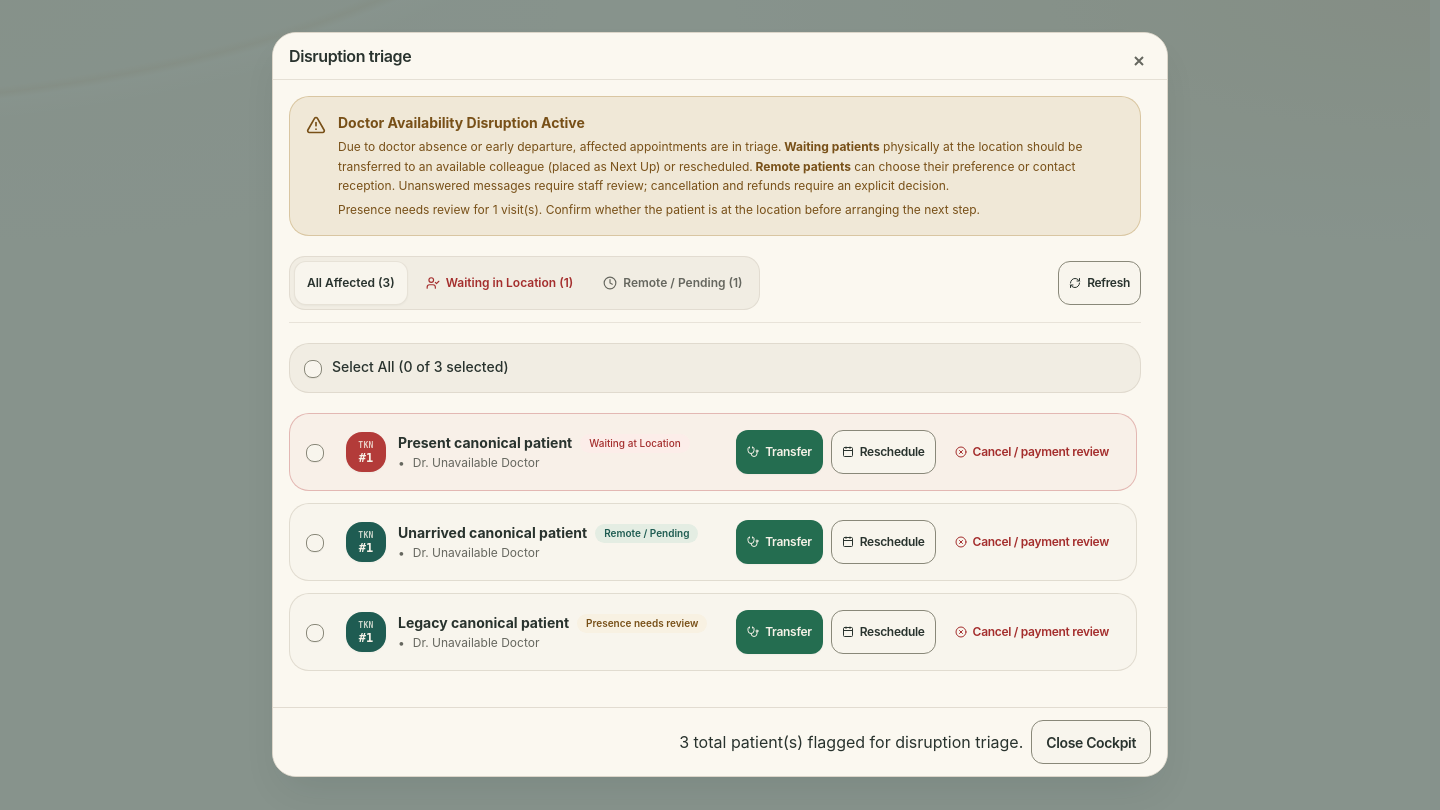
Test: Disruption attendance review › preserves recorded attendance and treats missing history as unknown rather than reading notes
The image size is (1440, 810).
Expected: the button "Remote / Pending (1)" is shown, [591,262,754,306]
Expected: the text "Presence needs review for 1 visit" is shown, [338,202,980,217]
Click the button "Waiting in Location (1)". click: click(499, 284)
box: [414,262,585,306]
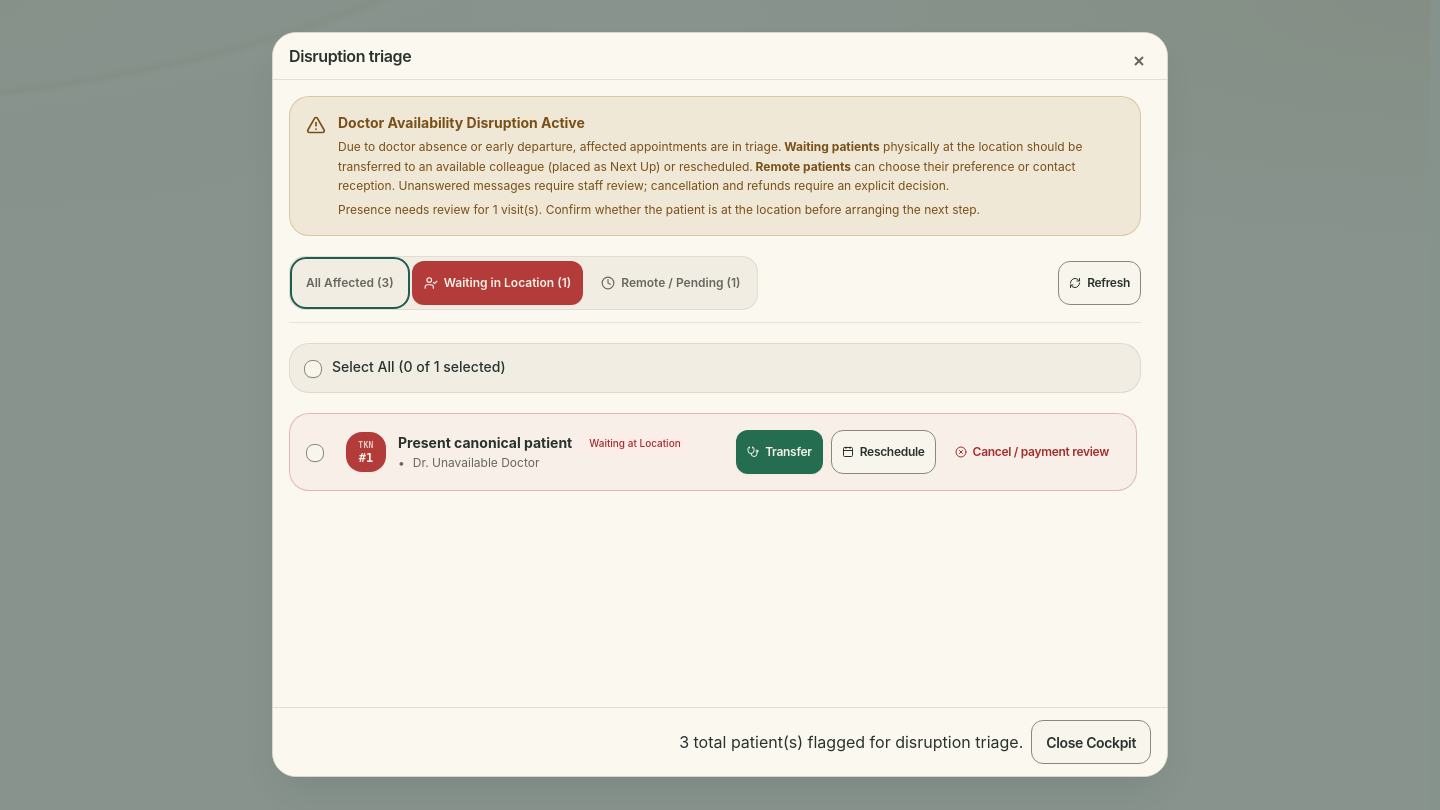
Expected: the text "Present canonical patient" is shown, [398,434,572,454]
Now the text "Unarrived canonical patient" is gone
Now the text "Legacy canonical patient" is gone
Click the button "Cancel / payment review". click: click(1032, 453)
box: [944,431,1120,475]
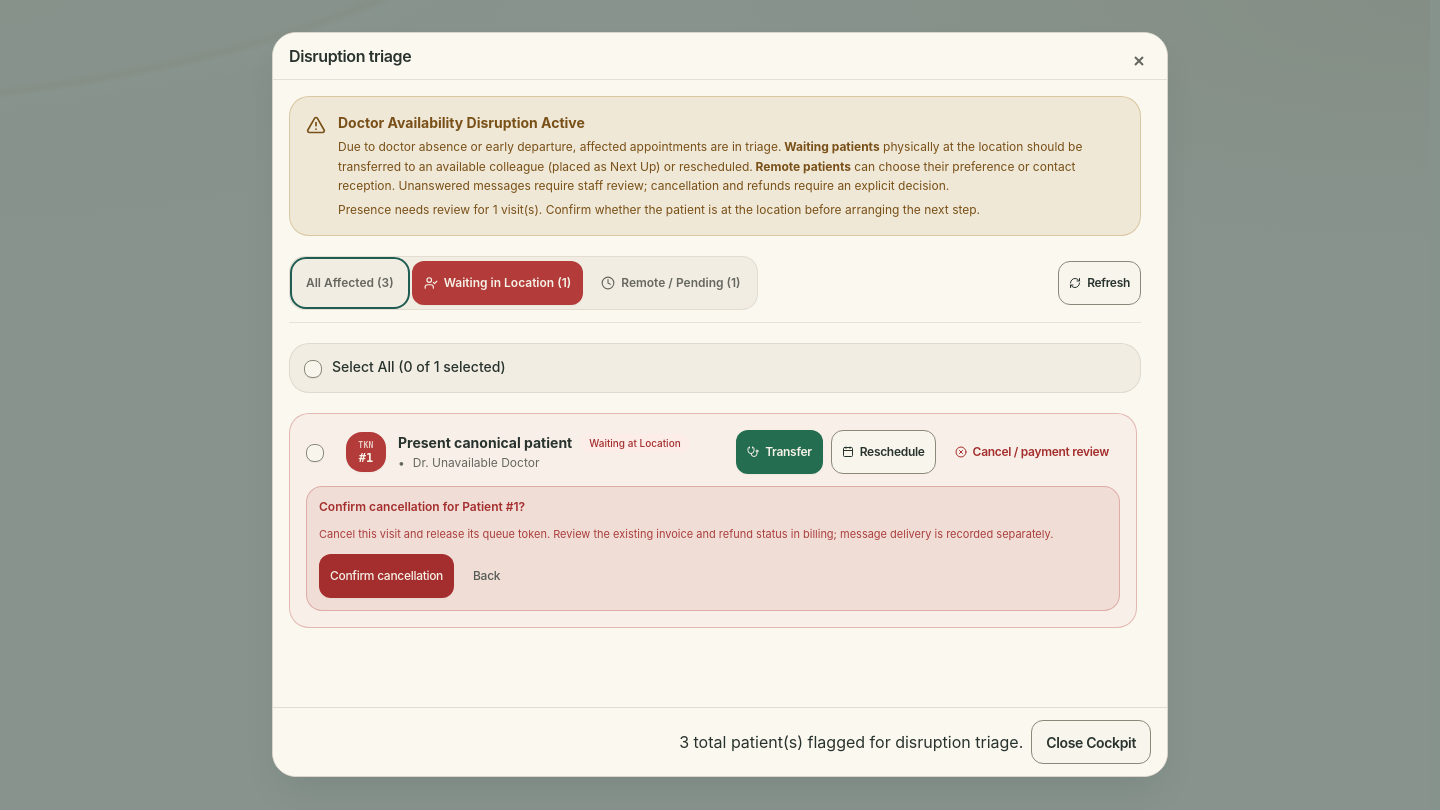
Now the text "Review the existing invoice and refund status" is shown, box [319,528,1053,542]
Click the button "Confirm cancellation". click: click(386, 576)
box: [319,554,454,598]
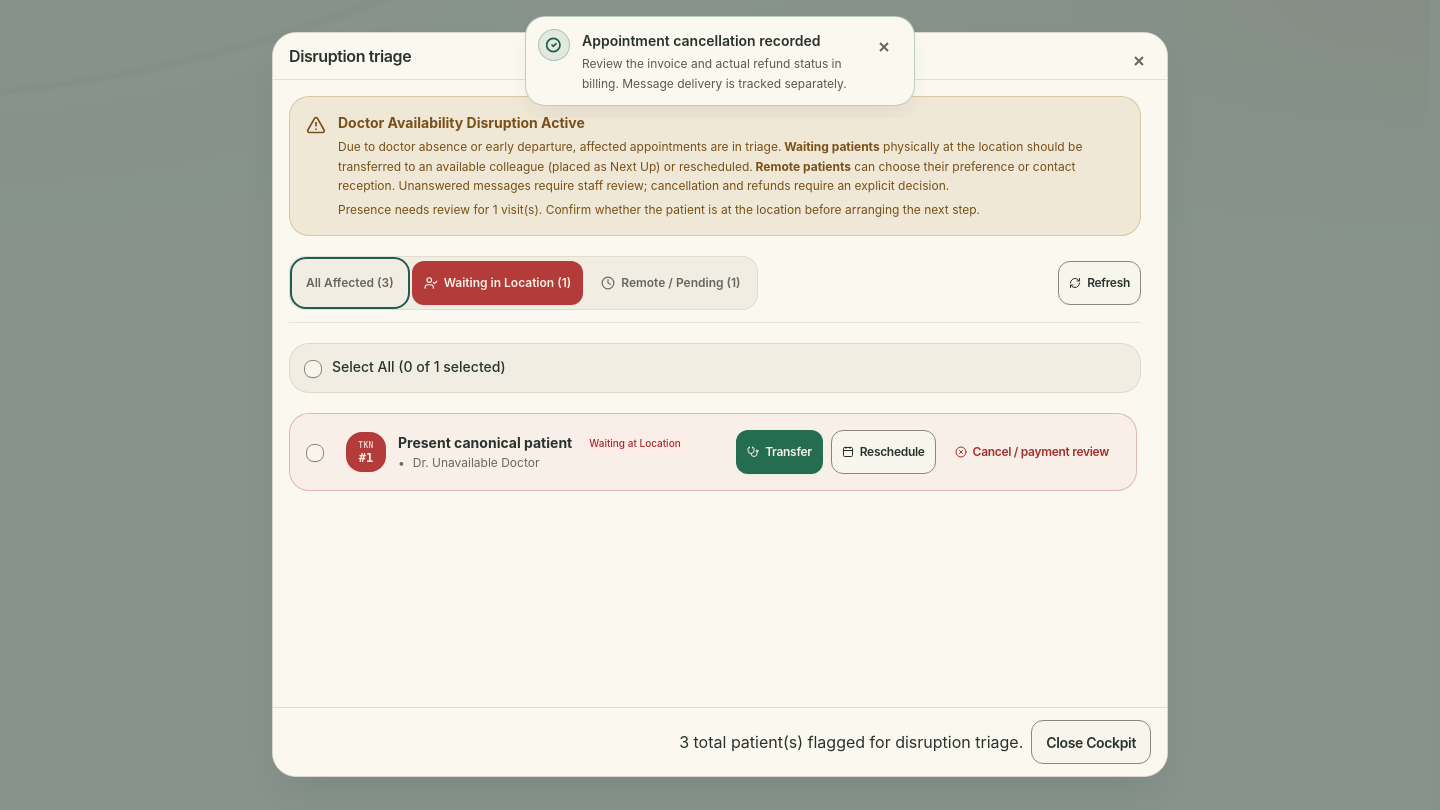
Now the text "Appointment cancellation recorded" is shown, box [582,31,850,50]
